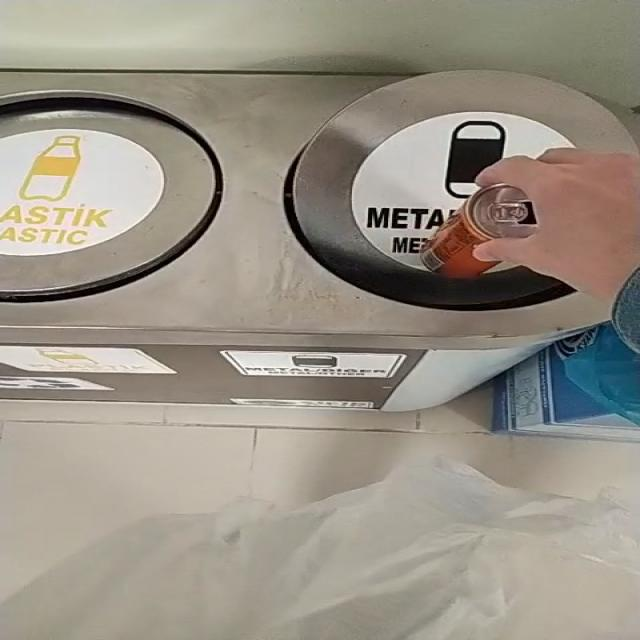bin: (0, 71, 601, 410)
metal: (420, 184, 539, 278)
